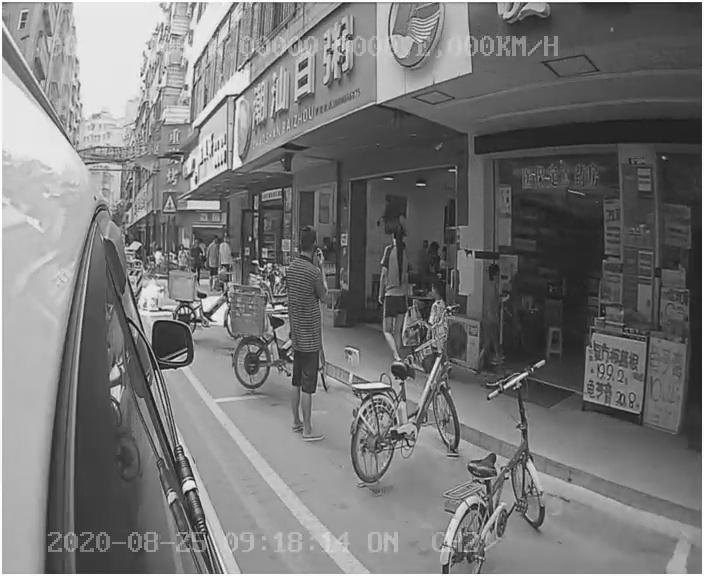person: (272, 231, 336, 447)
